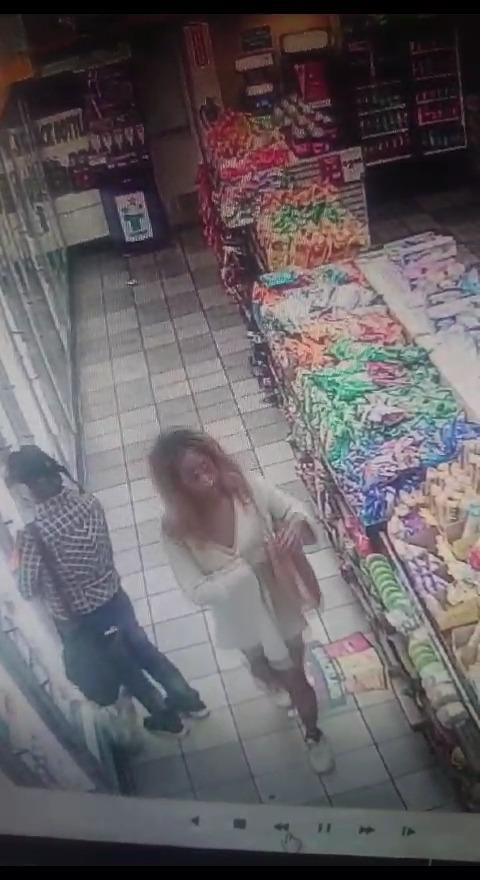Normal: (22, 460, 209, 787)
shoplifting: (149, 417, 325, 737)
